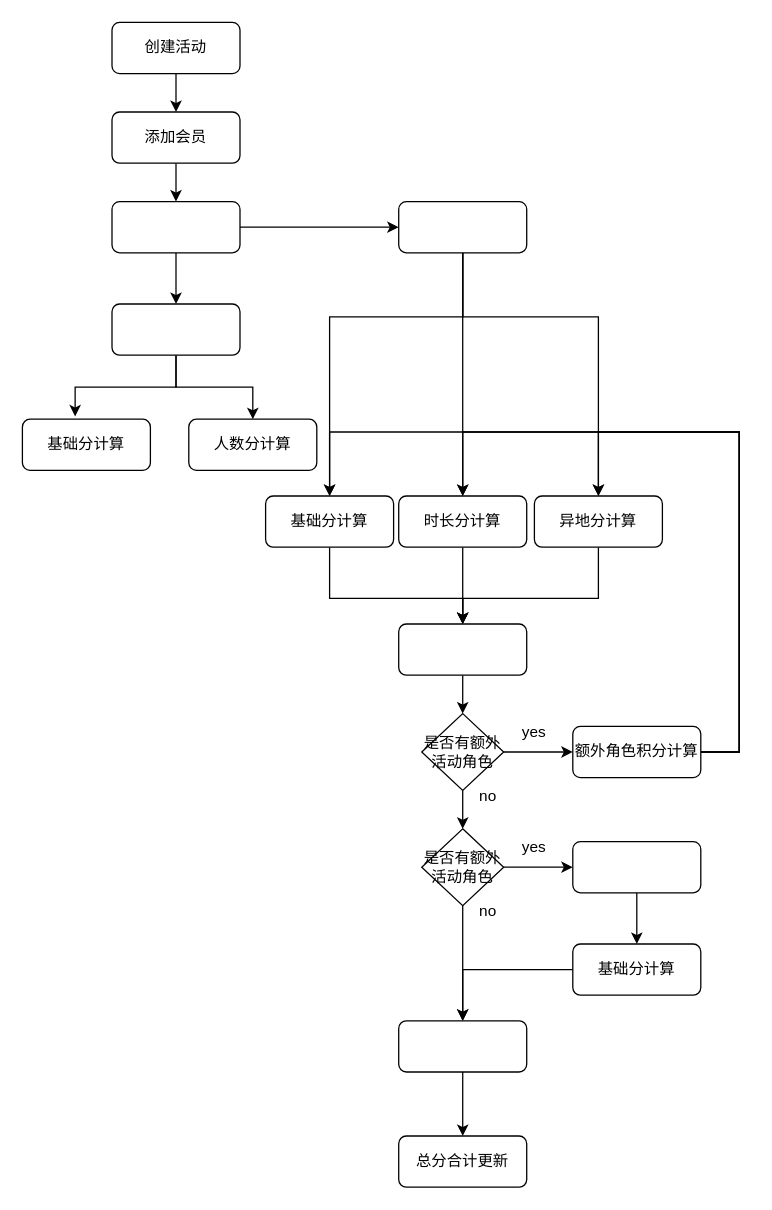
The diagram is 772 pixels wide and 1210 high, and some of its shapes have lost their labels. Each missing label, with the centre of its shape:
会员积分计算: the point at 462,226
保存数据: the point at 175,226
其他录入分计算: the point at 462,1046
服务队积分计算: the point at 175,329
线上参与分计算: the point at 462,649
额外职务积分计算: the point at 636,866
